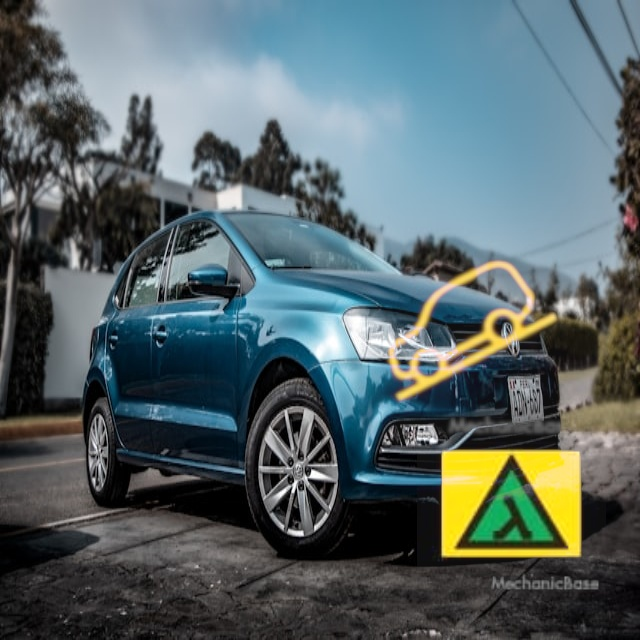symbol: (363, 224, 583, 444), (417, 410, 606, 599)
